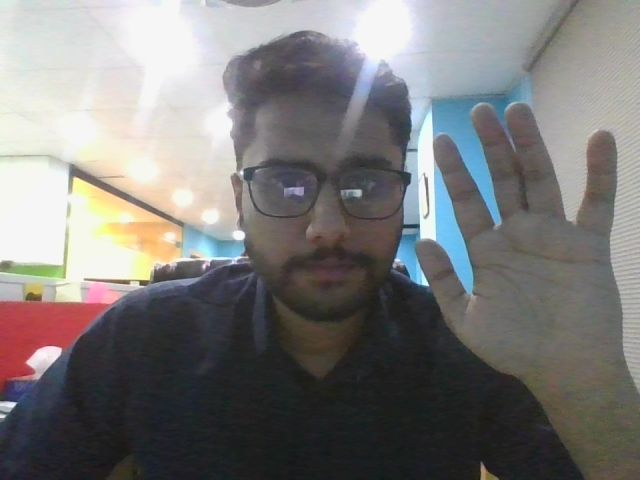hello: (412, 91, 635, 384)
